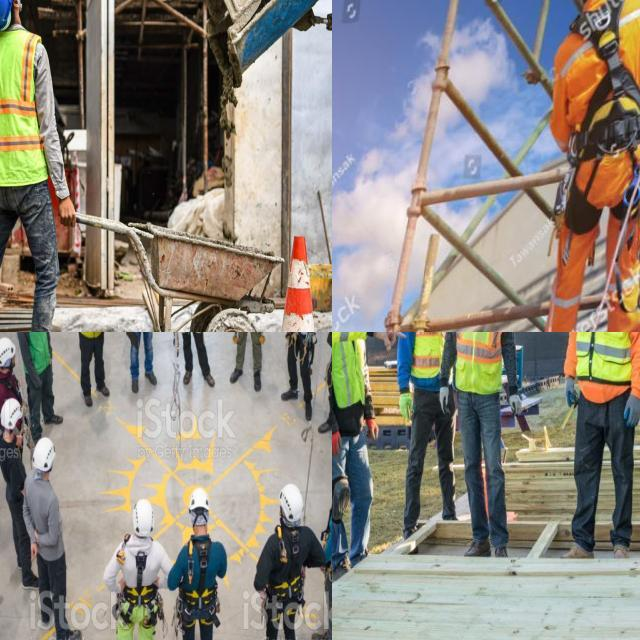Harness: (570, 0, 640, 164), (259, 518, 313, 624), (114, 528, 168, 634), (171, 534, 222, 636), (0, 373, 29, 433), (283, 332, 319, 366), (322, 477, 332, 582)
hand_glove: (620, 391, 640, 430), (560, 372, 580, 408), (397, 390, 415, 427), (364, 414, 381, 448), (508, 392, 524, 419), (437, 387, 451, 415), (332, 426, 342, 462)
hand_noglove: (56, 198, 84, 242), (371, 332, 408, 354)
person: (0, 0, 73, 332), (446, 332, 523, 556), (565, 332, 640, 561), (395, 332, 457, 544), (332, 332, 384, 573)
vest: (0, 27, 48, 186), (574, 332, 639, 387), (452, 332, 507, 396), (412, 332, 455, 389)
